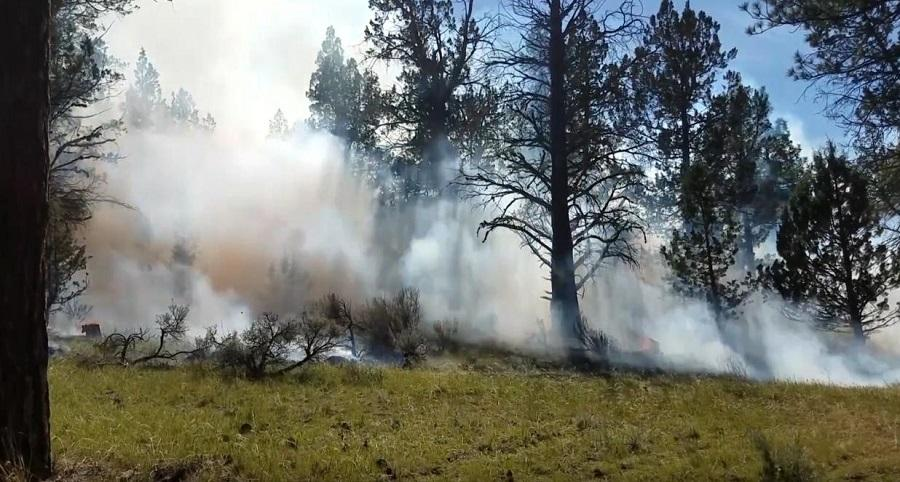smoke: (111, 149, 305, 274), (478, 251, 536, 339)
